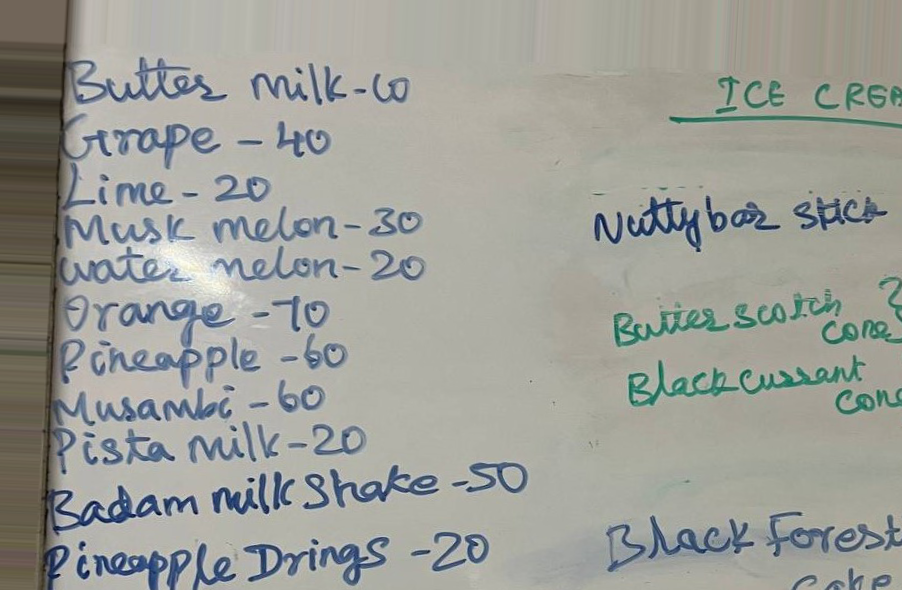badam milkshake - 50: (46, 461, 533, 535)
black current cone - 40: (622, 349, 902, 417)
black forest cake - 50: (606, 509, 901, 590)
butter milk - 10: (61, 56, 424, 113)
butterscotch cone - 35: (612, 271, 902, 353)
grape - 40: (60, 112, 335, 163)
lime - 20: (59, 161, 281, 208)
musambi - 60: (50, 382, 329, 425)
musk melon - 30: (61, 209, 428, 244)
nutty bar - 30: (589, 185, 902, 250)
orange - 70: (54, 291, 329, 333)
pineapple - 60: (50, 332, 354, 381)
pineapple drink - 20: (39, 532, 491, 589)
pista milk - 20: (54, 425, 368, 468)
water melon - 20: (55, 245, 431, 288)
